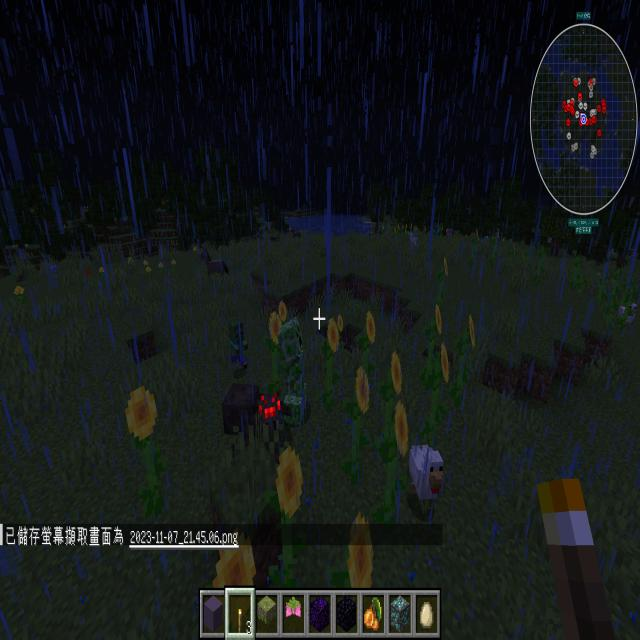Spider: (218, 379, 296, 469), (268, 235, 280, 245)
Zombie: (276, 311, 310, 434), (224, 316, 251, 372), (432, 220, 442, 243)
chicken: (408, 441, 448, 524), (616, 300, 638, 333), (407, 230, 419, 252)
pig: (444, 226, 454, 239)
